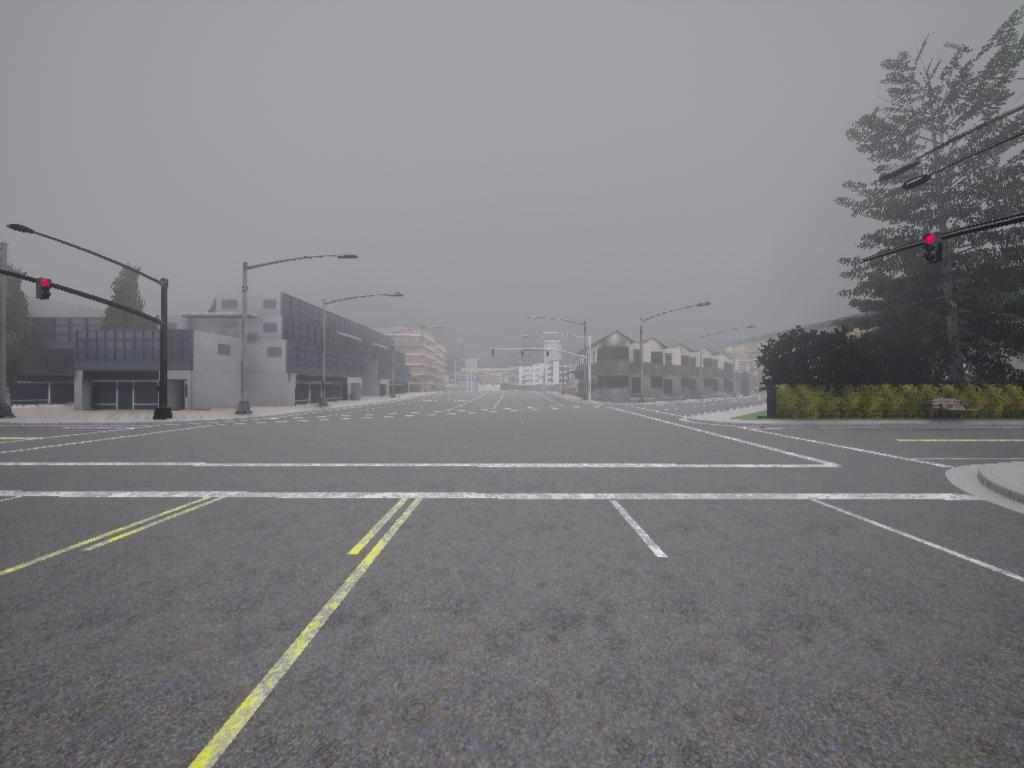traffic_light: (922, 231, 942, 263), (39, 278, 53, 301), (547, 348, 550, 359), (493, 349, 496, 358), (522, 349, 525, 358)
